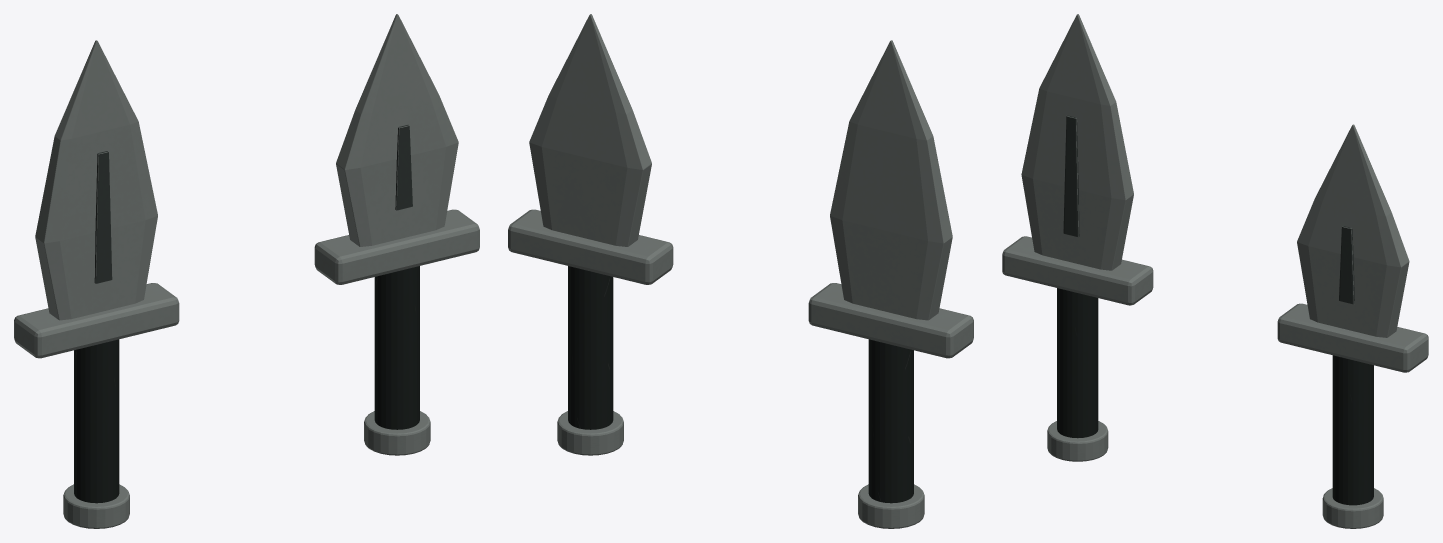
Rendered from dual_blades-t2.glb.
The picture shows the model from 3 angles, left to right: view 1: azimuth 30°, elevation 25°; view 2: azimuth 150°, elevation 25°; view 3: azimuth 330°, elevation 25°; orthographic projection. The views are drawn at different scales.
Visible parts, largest first — view 1: Forged blade, Forged blade.001, Wrapped handle, Wrapped handle.001, Crossguard, Crossguard.001, Central blade fuller, Weighted pommel.001, Weighted pommel, Central blade fuller.001; view 2: Forged blade, Forged blade.001, Wrapped handle, Wrapped handle.001, Crossguard, Crossguard.001, Weighted pommel.001, Weighted pommel; view 3: Forged blade, Forged blade.001, Wrapped handle.001, Wrapped handle, Crossguard, Crossguard.001, Central blade fuller, Weighted pommel.001, Weighted pommel, Central blade fuller.001.
Part boxes in pixels (<box>): Forged blade: <box>35,40,157,320</box>; Forged blade.001: <box>336,14,458,246</box>; Wrapped handle: <box>74,339,119,503</box>; Wrapped handle.001: <box>374,266,419,429</box>; Crossguard: <box>14,283,179,358</box>; Crossguard.001: <box>314,209,479,284</box>; Central blade fuller: <box>94,151,112,283</box>; Weighted pommel.001: <box>364,411,430,455</box>; Weighted pommel: <box>63,484,129,528</box>; Central blade fuller.001: <box>395,124,412,210</box>; Forged blade: <box>830,40,952,320</box>; Forged blade.001: <box>529,14,651,246</box>; Wrapped handle: <box>868,339,913,503</box>; Wrapped handle.001: <box>568,266,613,429</box>; Crossguard: <box>808,283,973,358</box>; Crossguard.001: <box>508,209,673,284</box>; Weighted pommel.001: <box>557,411,623,455</box>; Weighted pommel: <box>858,484,924,528</box>; Forged blade: <box>1021,14,1133,270</box>; Forged blade.001: <box>1297,124,1409,337</box>; Wrapped handle.001: <box>1332,355,1373,505</box>; Wrapped handle: <box>1057,288,1098,438</box>; Crossguard: <box>1002,236,1153,305</box>; Crossguard.001: <box>1277,303,1428,372</box>; Central blade fuller: <box>1063,115,1079,237</box>; Weighted pommel.001: <box>1322,488,1383,528</box>; Weighted pommel: <box>1047,421,1108,461</box>; Central blade fuller.001: <box>1339,226,1354,304</box>.
Size of the model in its own units: 1.48 by 1.51 by 0.192.
Materials: 3 (3 with a texture image).
